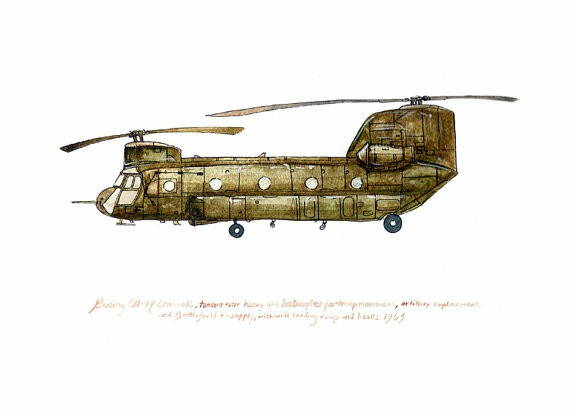chinook: (67, 90, 522, 243)
